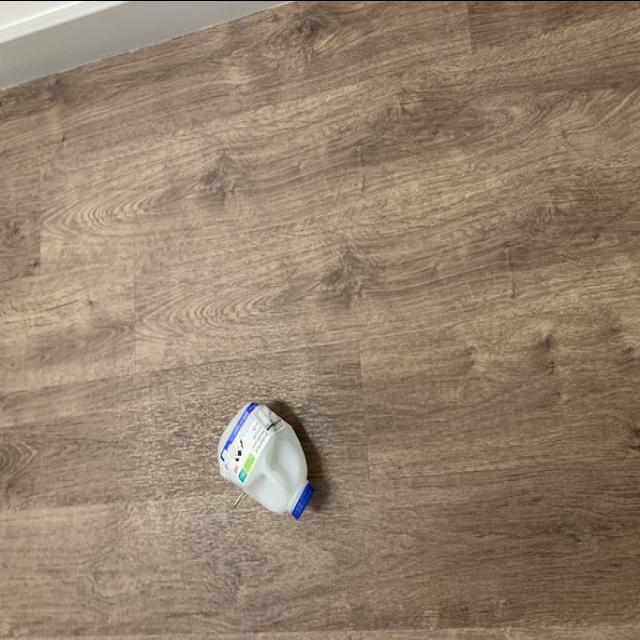litter: (215, 392, 322, 524)
